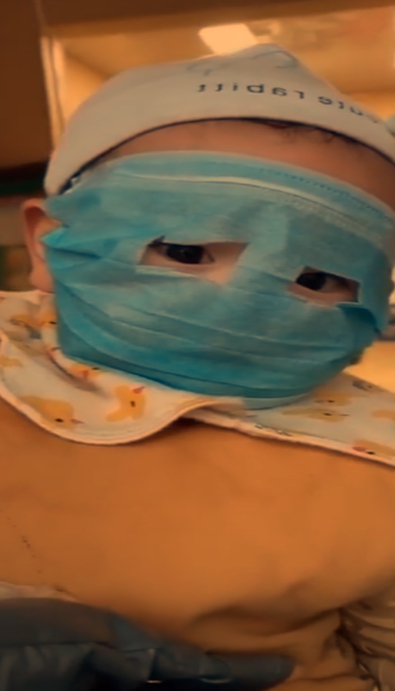mask_weared_incorrect: (16, 47, 394, 402)
